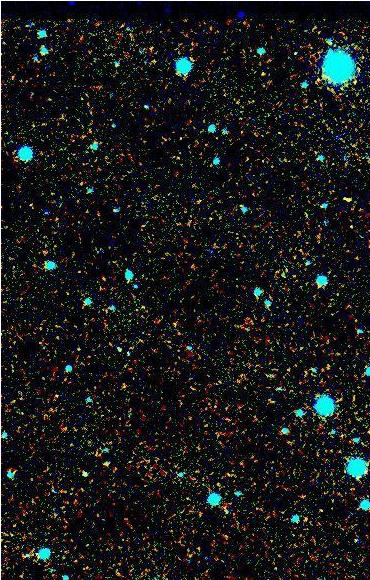star: (333, 181, 363, 211)
